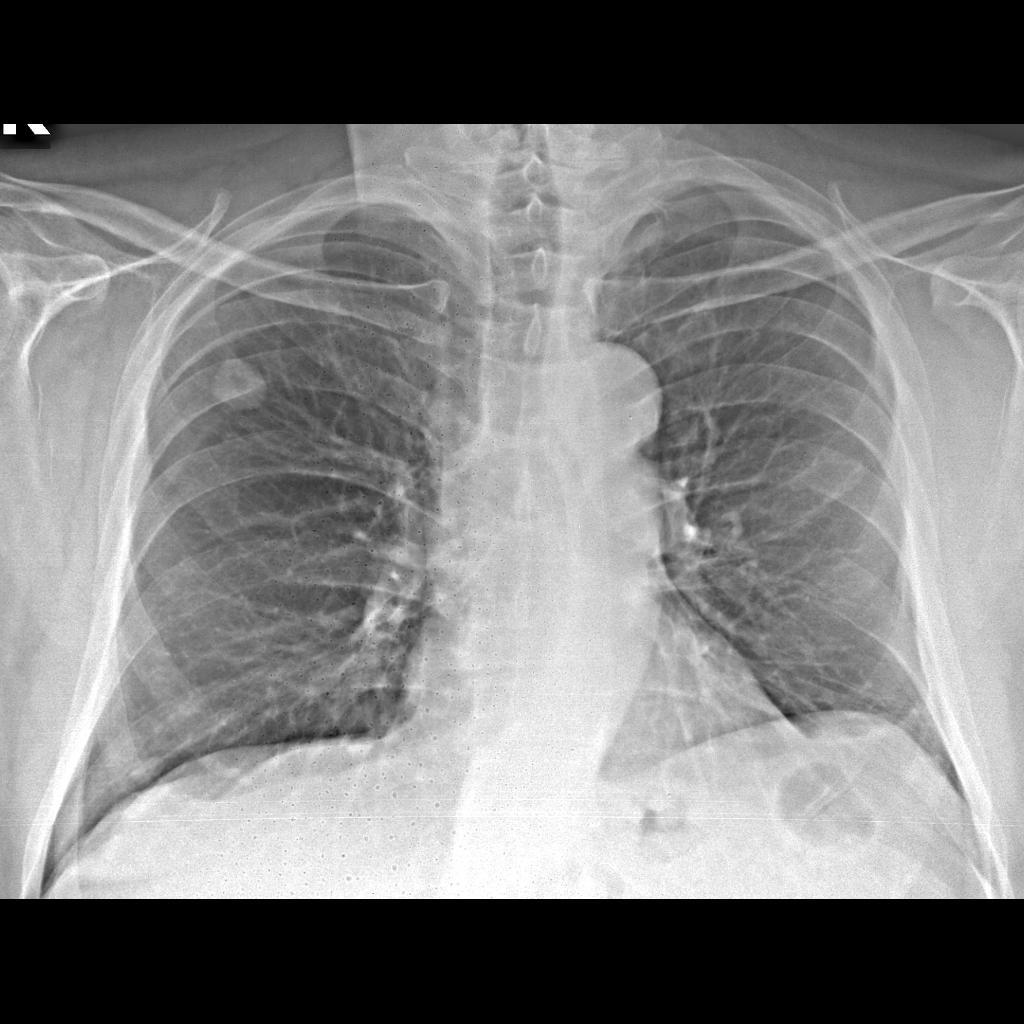Nodule: (204, 350, 273, 419)
